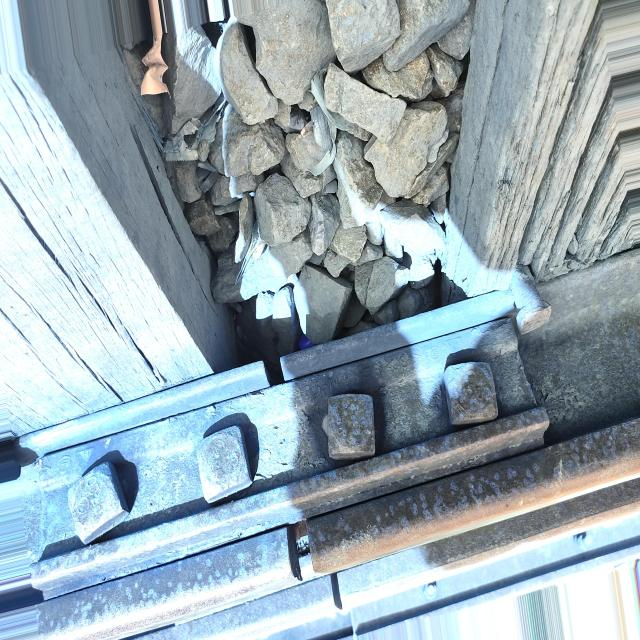crack: (271, 511, 332, 584), (319, 556, 377, 624), (253, 351, 310, 404)
